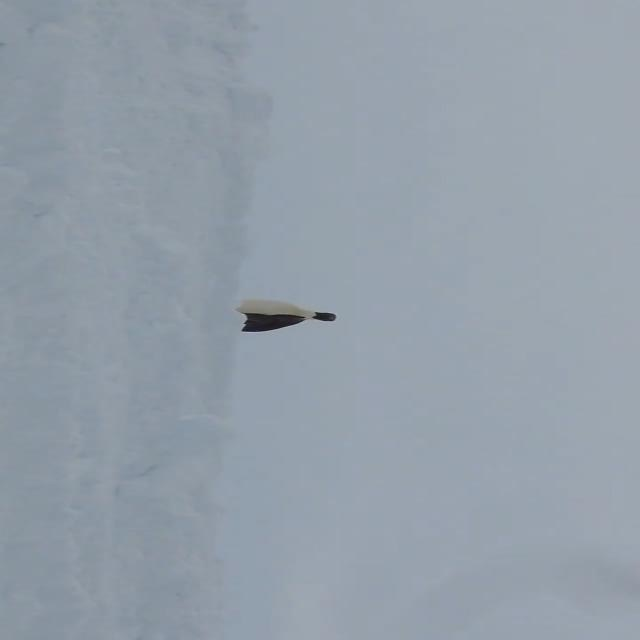penguin: (233, 298, 337, 336)
